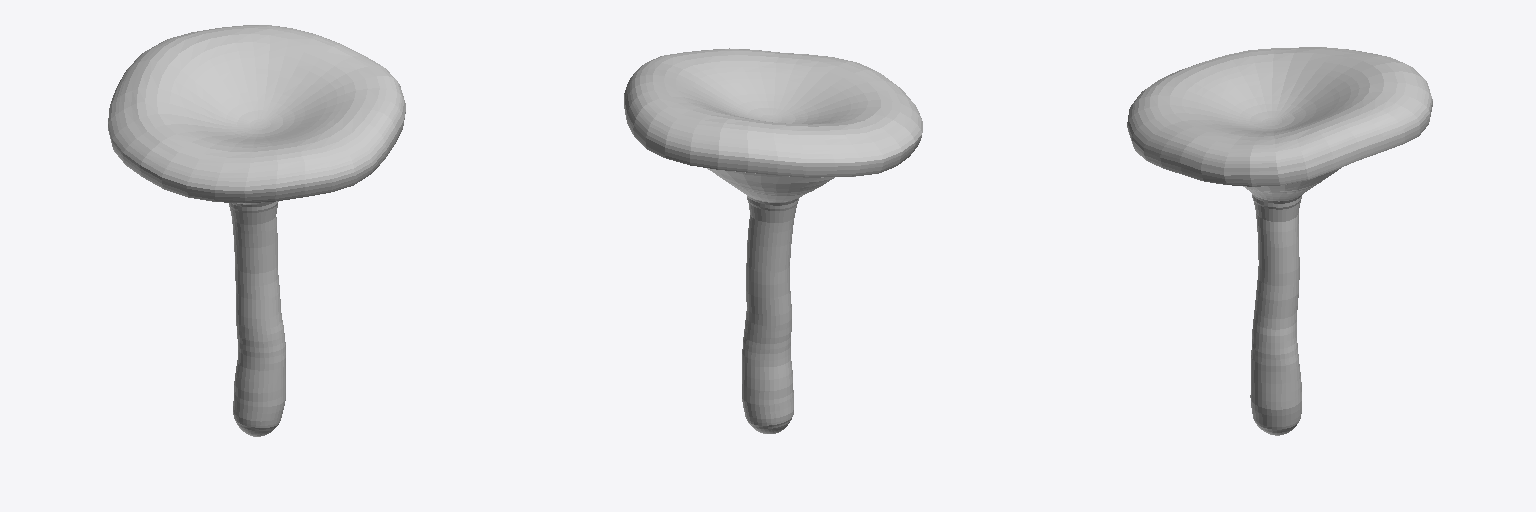
The model's file is lisichka-lozhnaya.obj.
The picture shows the model from 3 angles: view 1: azimuth 30°, elevation 25°; view 2: azimuth 150°, elevation 25°; view 3: azimuth 270°, elevation 25°; orthographic projection.
Visible parts, largest first — view 1: Cylinder; view 2: Cylinder; view 3: Cylinder.
Part boxes in pixels (x1,y1,x2,y2): Cylinder: (108,25,405,436); Cylinder: (624,48,922,433); Cylinder: (1127,47,1432,435).
Bounding box in the file's own units: 3.19 × 4.06 × 3.16.